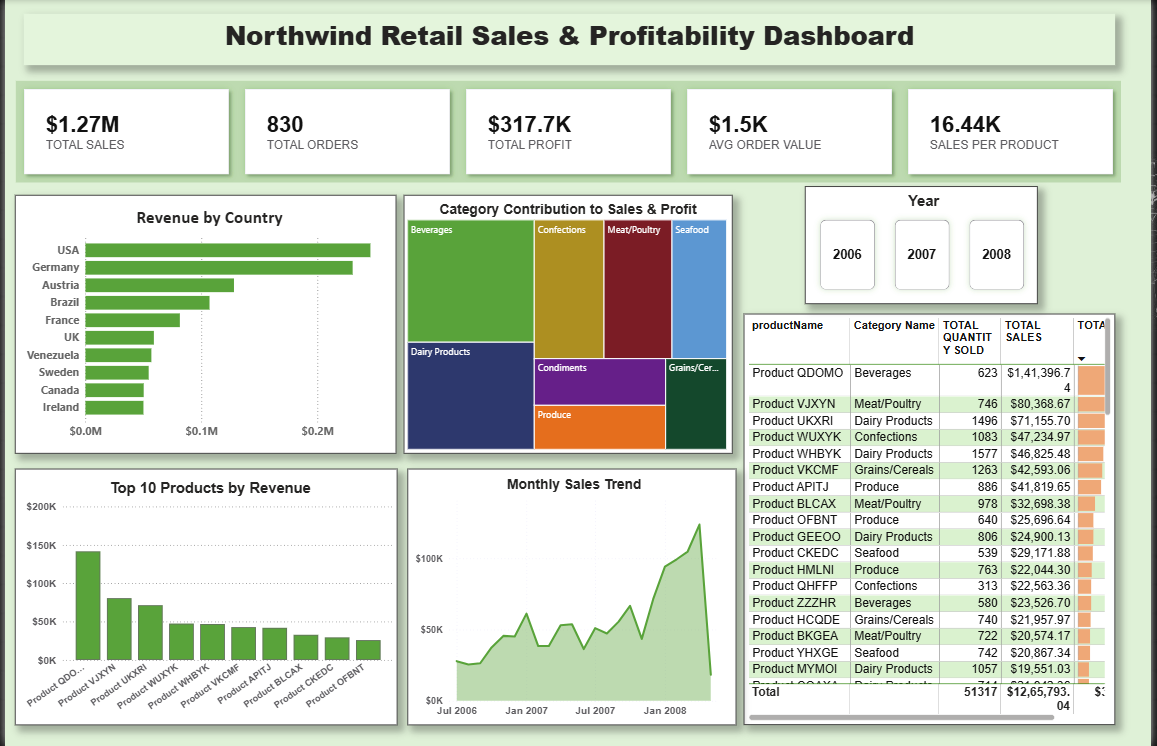

This screenshot's page, from the dashboard's own definition file:
{"tool":"powerbi","page":{"name":"Page 1","canvas":[1660,1080],"ordinal":0},"visuals":[{"type":"barChart","title":"Revenue by Country","fields":{"Category":["northwind salesorder.shipCountry"],"Y":["northwind category.Total Sales"]},"box":[14.5,282.3,551.9,374.6],"z":0},{"type":"columnChart","title":"Top 10 Products by Revenue","fields":{"Category":["northwind product.productName"],"Y":["northwind category.Total Sales"]},"box":[14.5,678.6,553.8,371],"z":1000},{"type":"cardVisual","fields":{"Data":["northwind category.Total Sales","northwind category.totoal orders","northwind category.total profit","northwind category.avg order value","northwind category.SALES PER PRODUCT"]},"box":[10.9,112.2,1610.6,157.4],"z":2000},{"type":"treemap","title":"Category Contribution to Sales & Profit","fields":{"Group":["northwind category.categoryName"],"Values":["northwind category.Total Sales"]},"box":[577.3,282.3,475.9,374.6],"z":3000},{"type":"tableEx","fields":{"Values":["northwind product.productName","northwind category.categoryName","northwind category.totoal quantity sold","northwind category.Total Sales","northwind category.total profit"]},"box":[1069.5,454.2,537.5,595.4],"z":4000},{"type":"stackedAreaChart","title":"Monthly Sales Trend","fields":{"Y":["northwind category.TOTAL SALES"],"Category":["northwind salesorder.orderDate.Variation.Date Hierarchy.Year","northwind salesorder.orderDate.Variation.Date Hierarchy.Month"]},"box":[582.7,678.6,475.9,371],"z":5000},{"type":"advancedSlicerVisual","fields":{"Values":["northwind salesorder.Year"]},"box":[1158.2,269.6,336.6,170.1],"z":6000},{"type":"textbox","box":[27.1,19.9,1579.8,74.2],"z":7000}]}

Visuals, with their boxes in screenshot pixels (x1, y1, x2, y2), scaled from the page's 1660x1080 canvas onto the 1157x746 screenshot:
"Revenue by Country" barChart: x1=10 y1=195 x2=395 y2=454
"Top 10 Products by Revenue" columnChart: x1=10 y1=469 x2=396 y2=725
cardVisual - northwind category.Total Sales x northwind category.totoal orders: x1=8 y1=78 x2=1130 y2=186
"Category Contribution to Sales & Profit" treemap: x1=402 y1=195 x2=734 y2=454
tableEx - northwind product.productName x northwind category.categoryName: x1=745 y1=314 x2=1120 y2=725
"Monthly Sales Trend" stackedAreaChart: x1=406 y1=469 x2=738 y2=725
advancedSlicerVisual - northwind salesorder.Year: x1=807 y1=186 x2=1042 y2=304
textbox: x1=19 y1=14 x2=1120 y2=65
